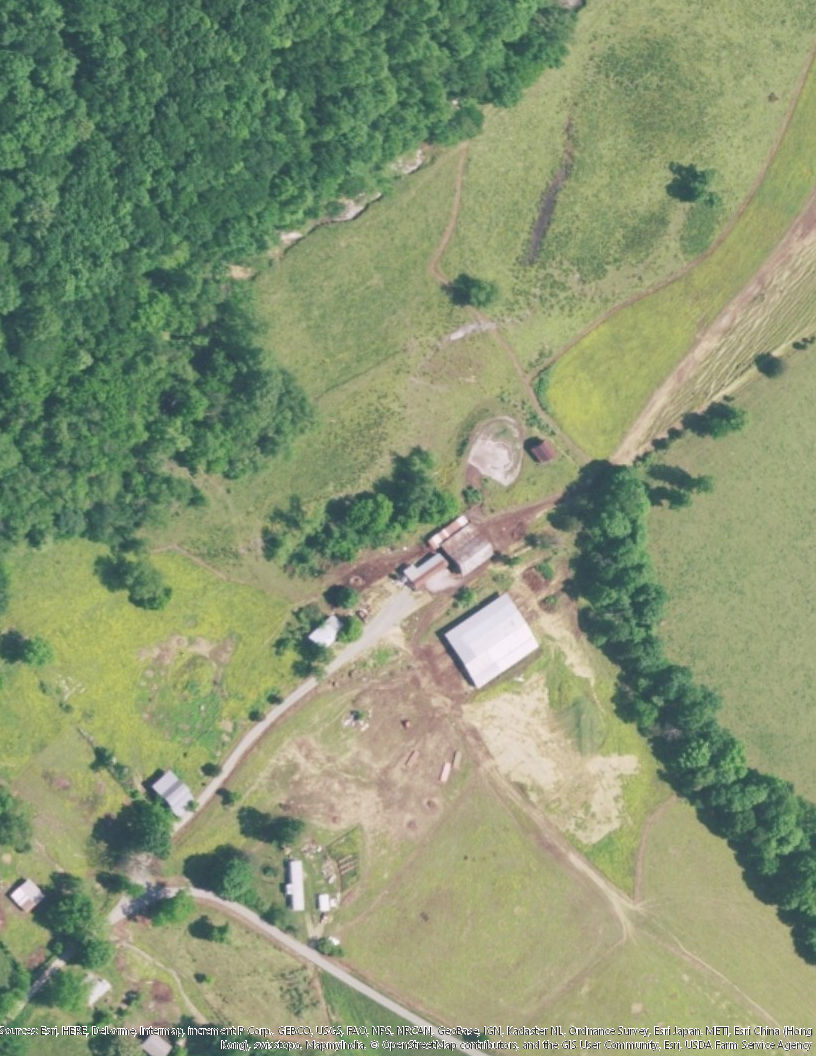cafo: (439, 590, 544, 691), (399, 512, 501, 589)
